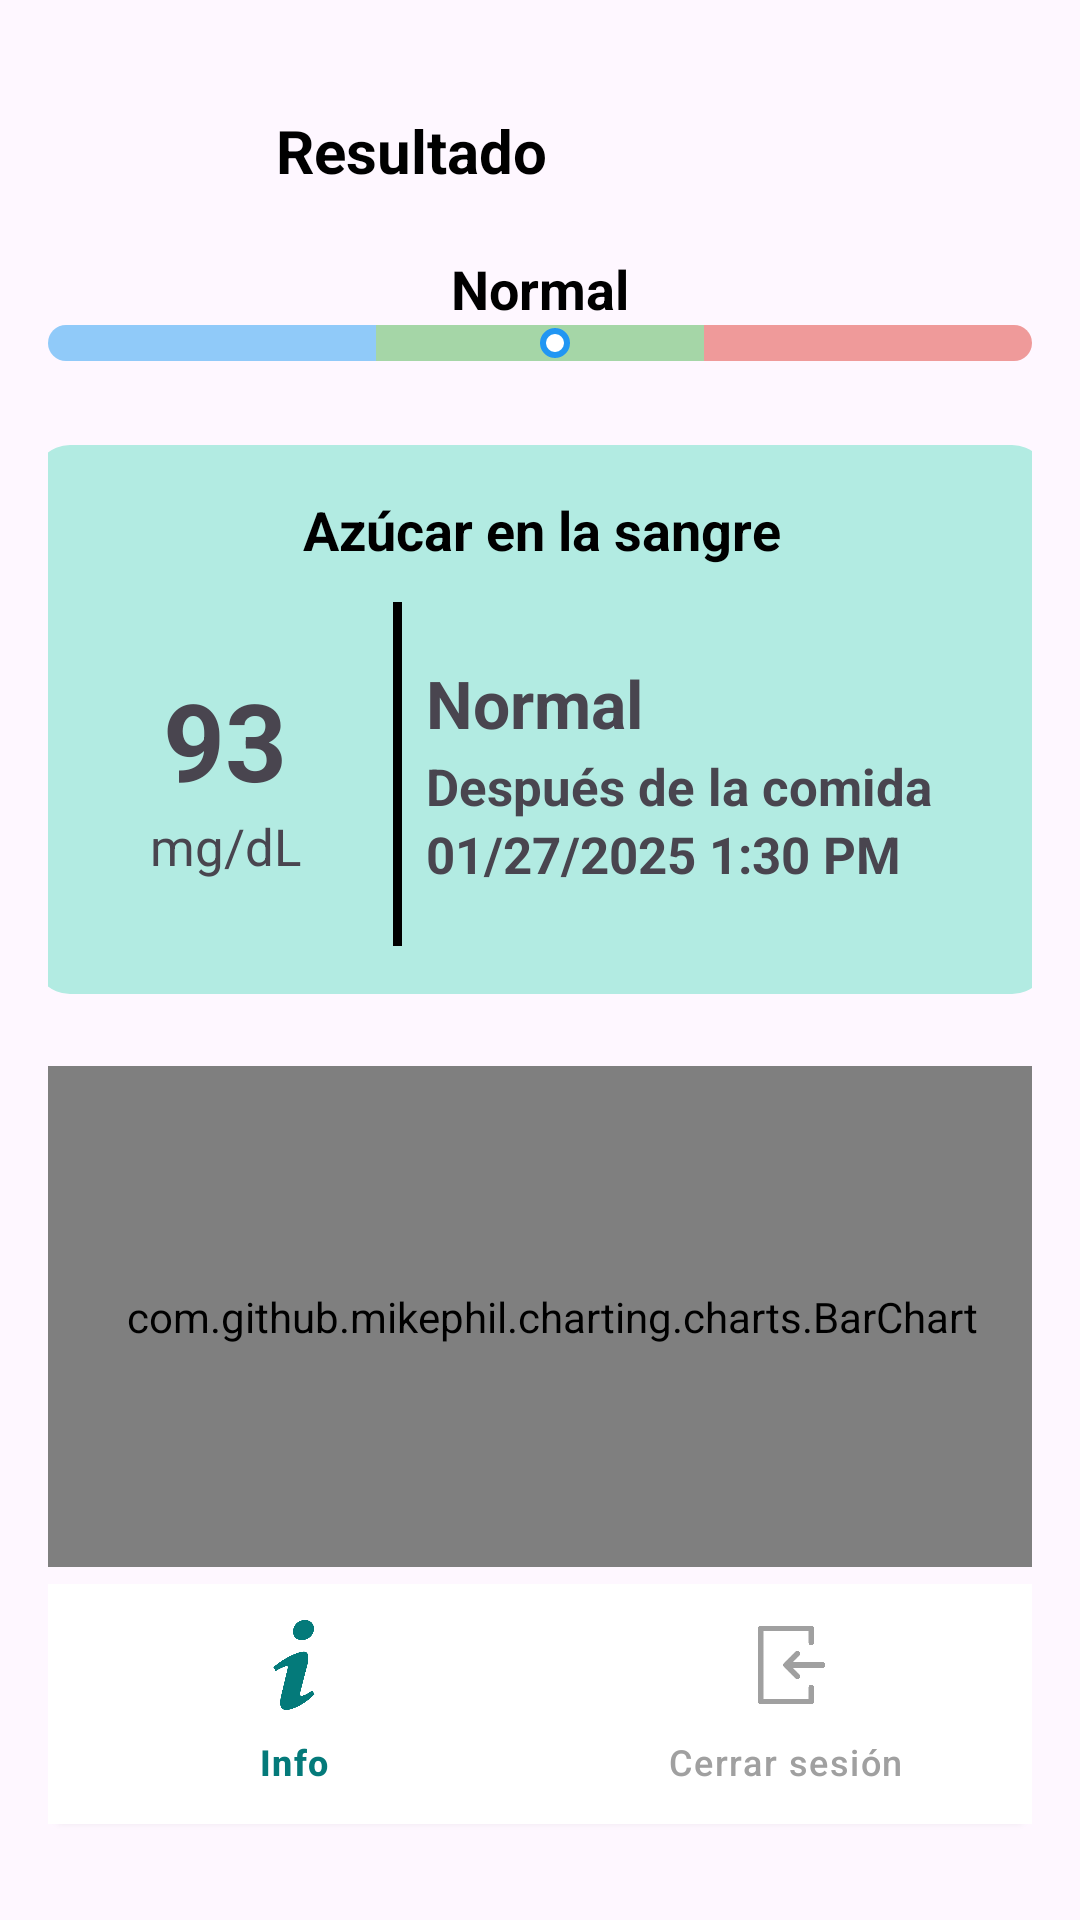

Point at icon controls on the screen. Image size 1080x1920, points as [x,y].
indicador: [555,343]
